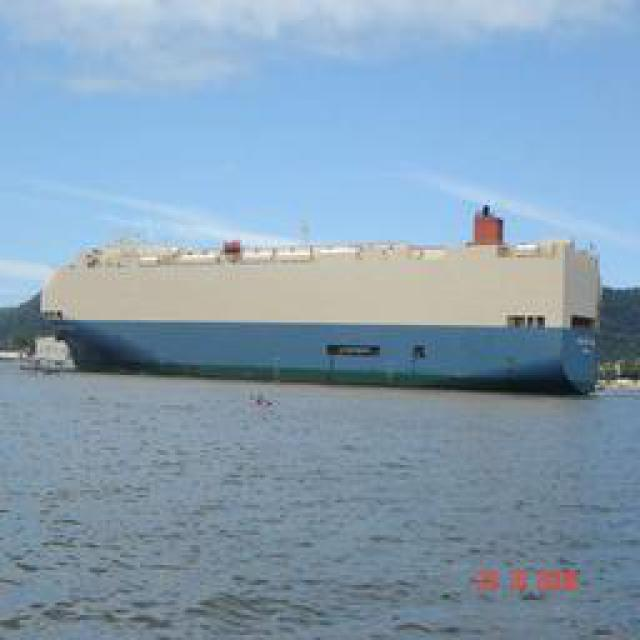Ship: (36, 204, 626, 384)
